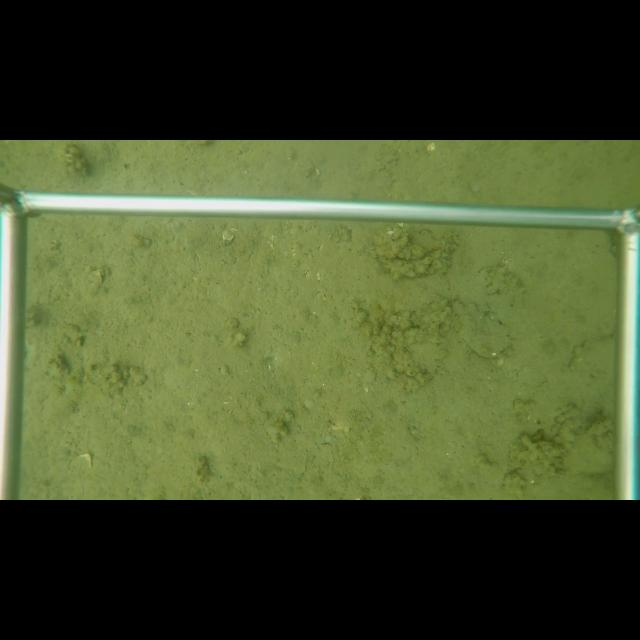Oyster-Closed: (450, 296, 519, 361)
